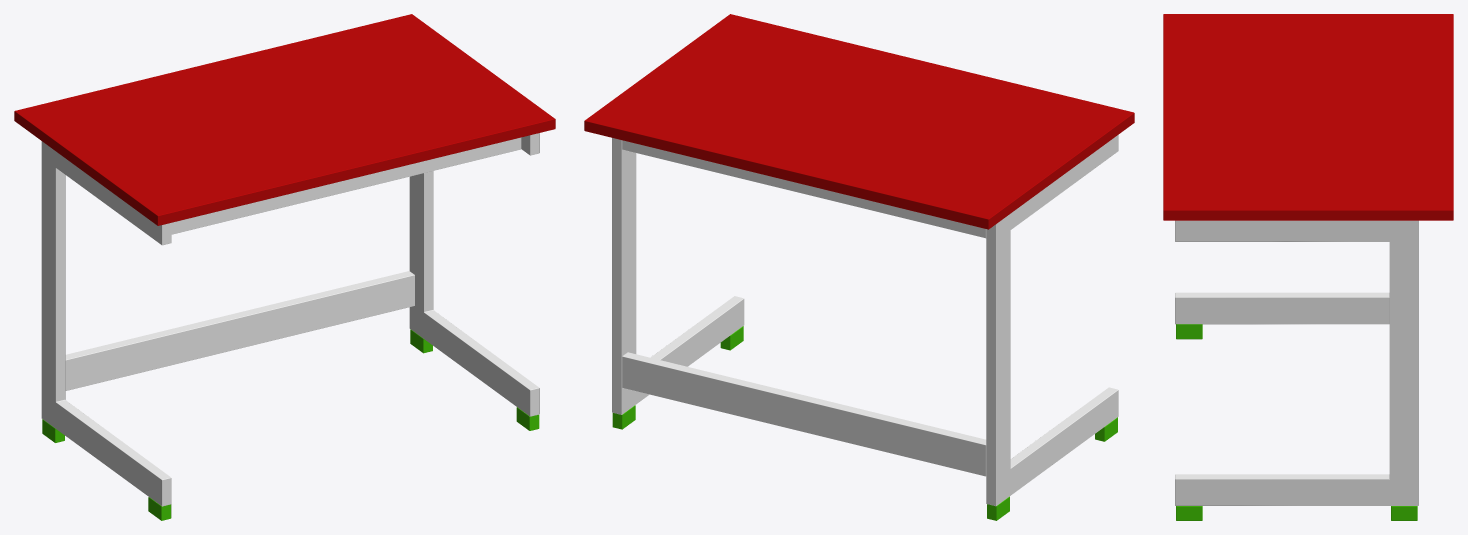
The model's file is Desk02b.fbx.
The picture shows the model from 3 angles, left to right: view 1: azimuth 30°, elevation 25°; view 2: azimuth 150°, elevation 25°; view 3: azimuth 270°, elevation 25°; orthographic projection.
Visible parts, largest first — view 1: Desk02b; view 2: Desk02b; view 3: Desk02b.
Boxes of the visible parts, x1,y1,x2,y2 form: Desk02b: (14,14,555,520); Desk02b: (584,14,1134,520); Desk02b: (1163,14,1453,520).
Bounding box in the file's own units: 100 × 62.5 × 75.
